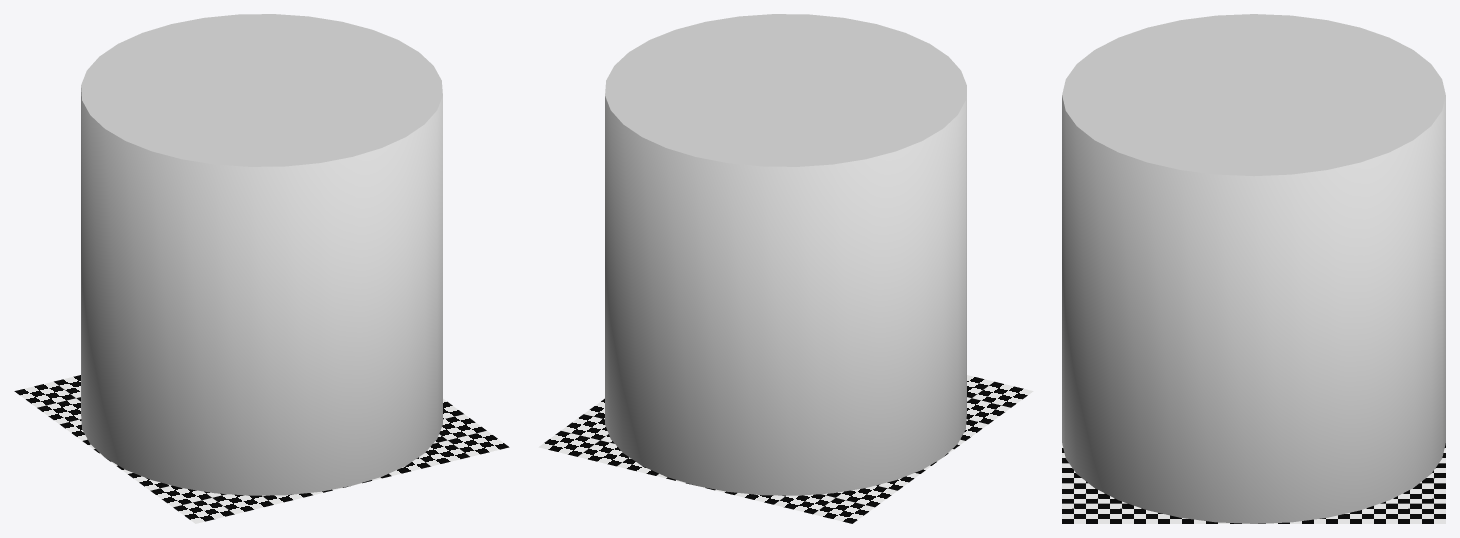
The model's file is white room.fbx.
The picture shows the model from 3 angles, left to right: view 1: azimuth 30°, elevation 25°; view 2: azimuth 150°, elevation 25°; view 3: azimuth 270°, elevation 25°; orthographic projection. The views are drawn at different scales.
Visible parts, largest first — view 1: Cylinder, Plane; view 2: Cylinder, Plane; view 3: Cylinder, Plane.
Part boxes in pixels (left/top/right/bottom): Cylinder: left=81, top=14, right=442, bottom=495; Plane: left=14, top=375, right=509, bottom=523; Cylinder: left=605, top=14, right=966, bottom=495; Plane: left=538, top=375, right=1033, bottom=523; Cylinder: left=1062, top=14, right=1445, bottom=523; Plane: left=1062, top=443, right=1445, bottom=523.
Bounding box in the file's own units: 1600 × 1600 × 1600.
